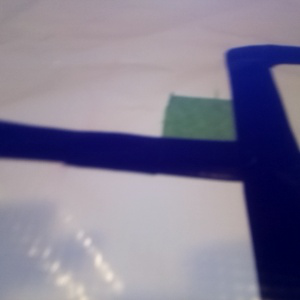top_left: (161, 95, 279, 174)
